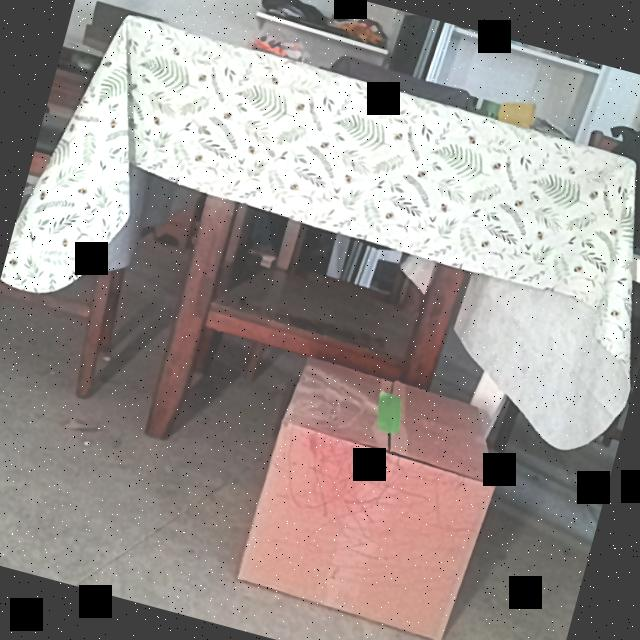box: (235, 421, 492, 640)
